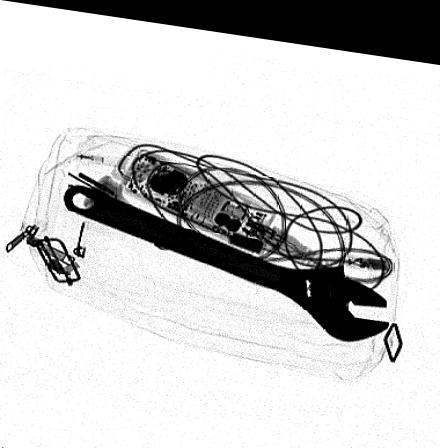Wrench: (63, 181, 389, 332)
